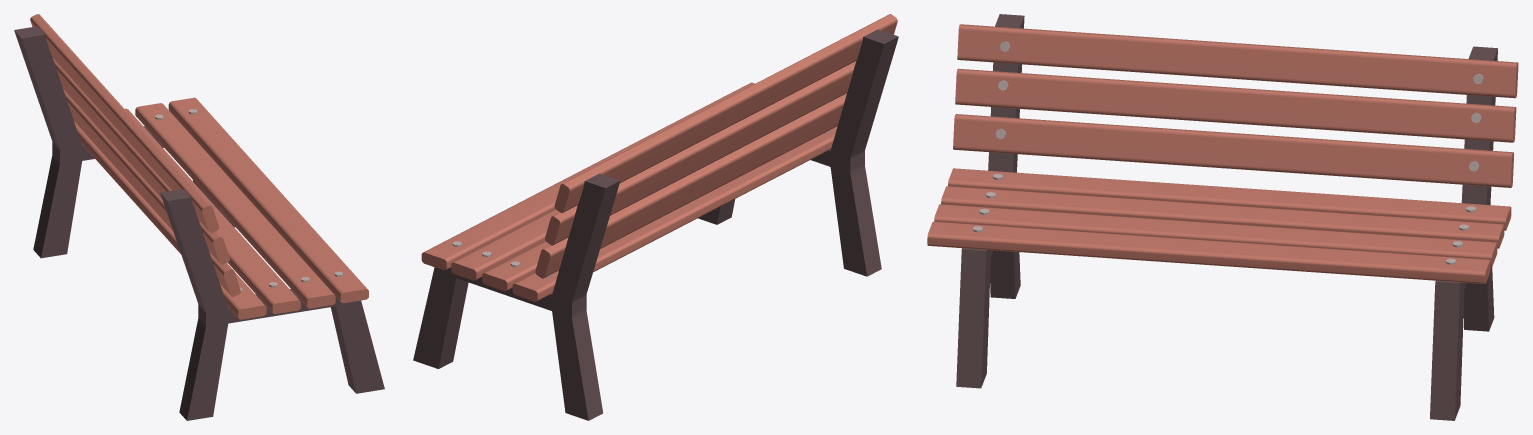
File: parkchairfbx1.fbx
The picture shows the model from 3 angles, left to right: view 1: azimuth 30°, elevation 25°; view 2: azimuth 150°, elevation 25°; view 3: azimuth 270°, elevation 25°; orthographic projection. The views are drawn at different scales.
Visible parts, largest first — view 1: polySurface16418; view 2: polySurface16418; view 3: polySurface16418.
Boxes of the visible parts, x1,y1,x2,y2 form: polySurface16418: (14, 14, 384, 420); polySurface16418: (413, 14, 898, 420); polySurface16418: (927, 14, 1518, 420).
Size of the model in its own units: 17.9 by 14.88 by 30.37.
